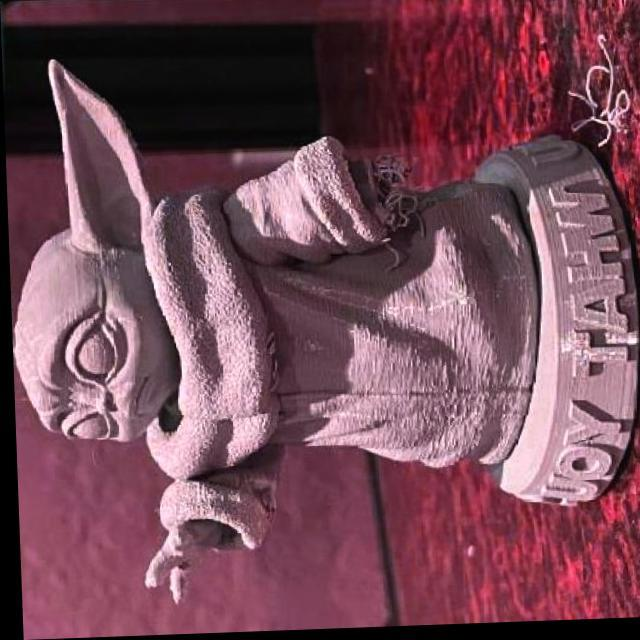spaghetti: (558, 32, 636, 179), (354, 152, 420, 242)
